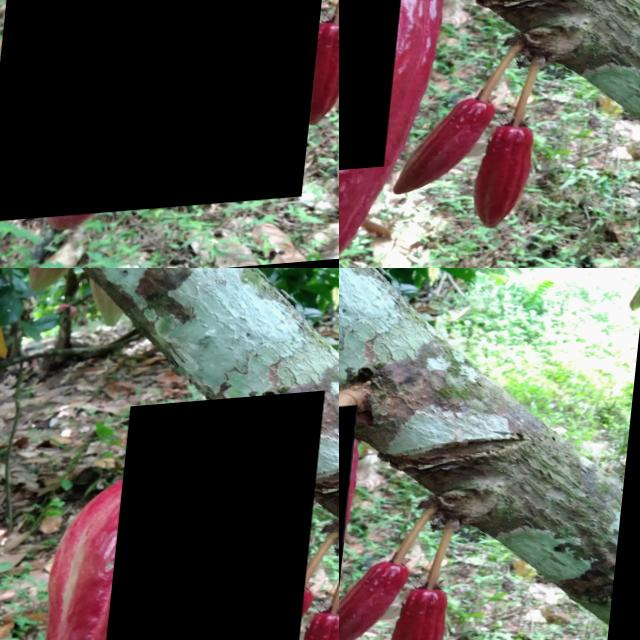Monilia: (339, 0, 413, 179)
Sana: (0, 0, 339, 224), (109, 397, 328, 640), (339, 573, 412, 640), (397, 590, 462, 640)
